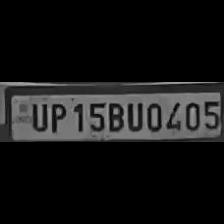0: (142, 100, 162, 132), (182, 99, 200, 131)
1: (68, 99, 86, 133)
4: (163, 98, 181, 132)
5: (84, 99, 106, 133), (202, 97, 220, 130)
B: (105, 100, 124, 132)
P: (46, 100, 68, 132)
U: (26, 100, 48, 132), (125, 99, 143, 133)
